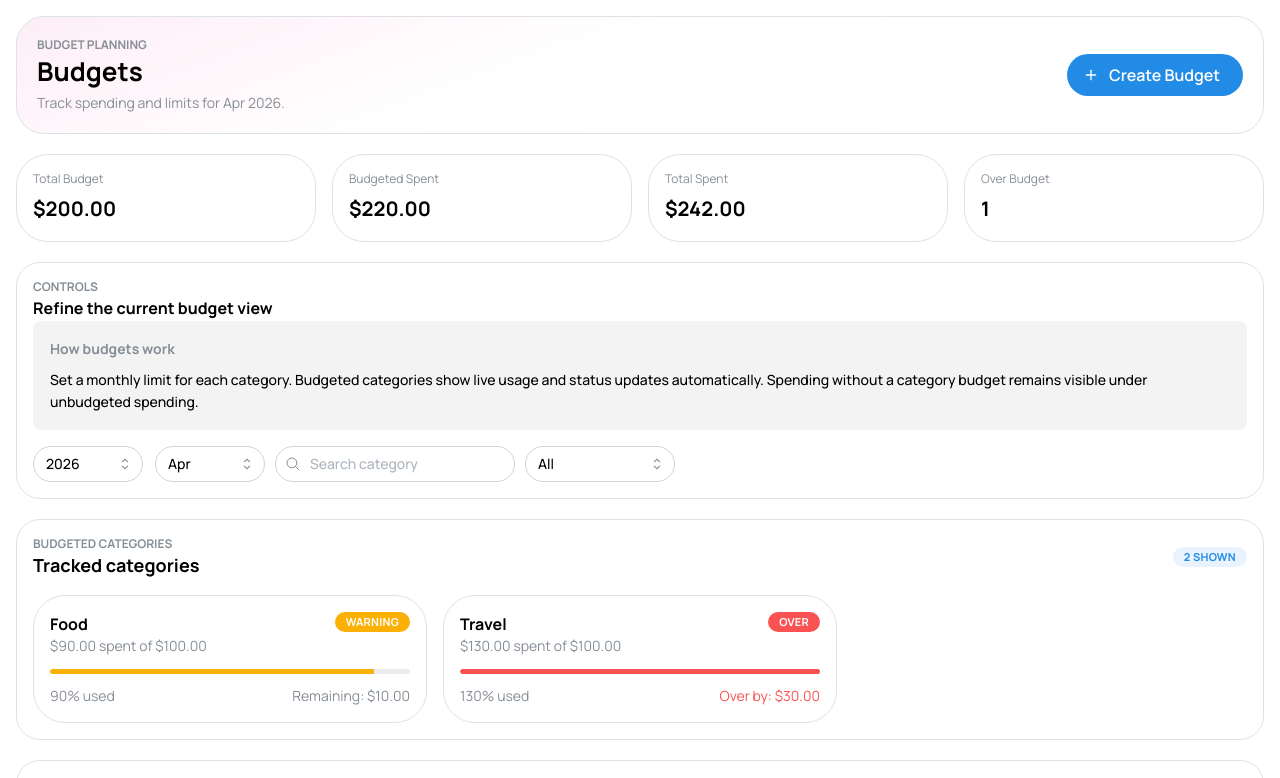
BudgetsPage › shows summary totals and opens the create budget modal
Check: the heading "Tracked categories" is shown, box [33, 552, 200, 578]
Check: the text "$200.00" is shown, box [33, 195, 116, 222]
Click the button "Create Budget": click(1155, 75) [1067, 54, 1243, 96]
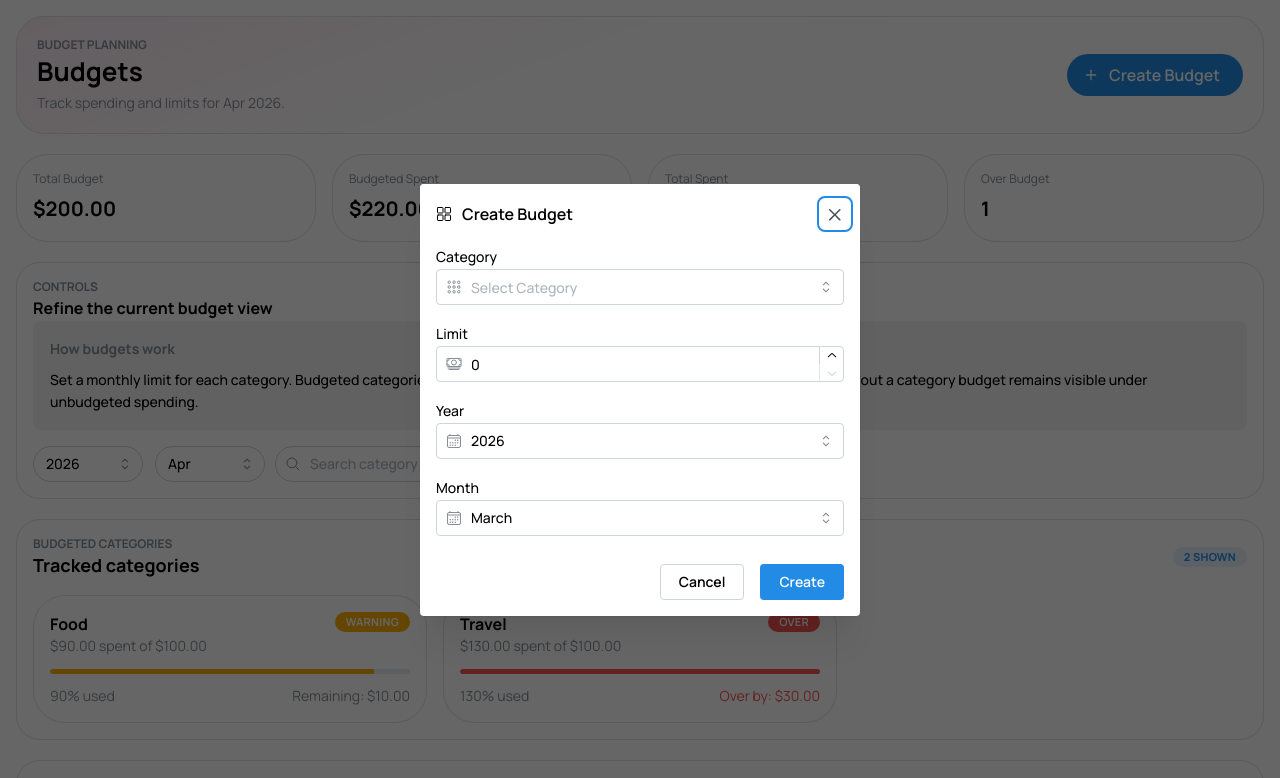
Check: the dialog "Create Budget Category Limit Year Month Cancel Create" is shown, box [420, 184, 860, 616]
